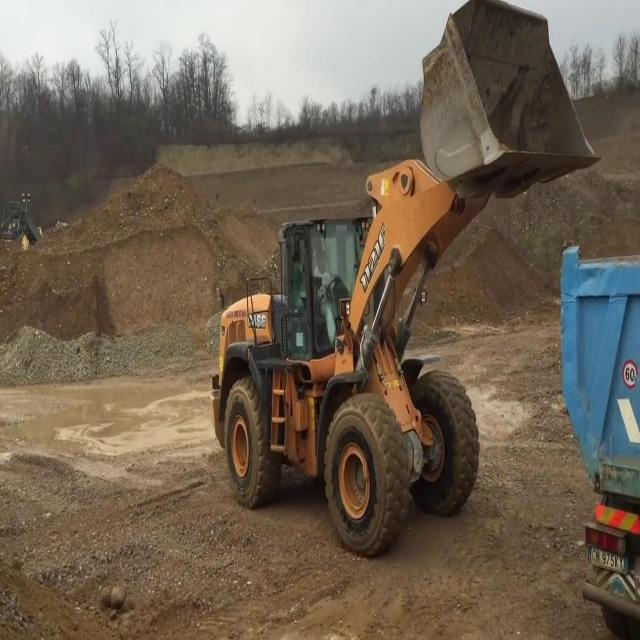Dump Truck: (560, 244, 640, 638)
Loader: (210, 0, 600, 558)
